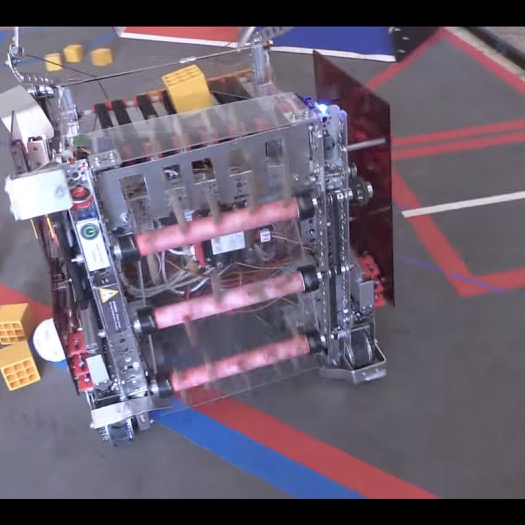robot: (0, 22, 392, 450)
